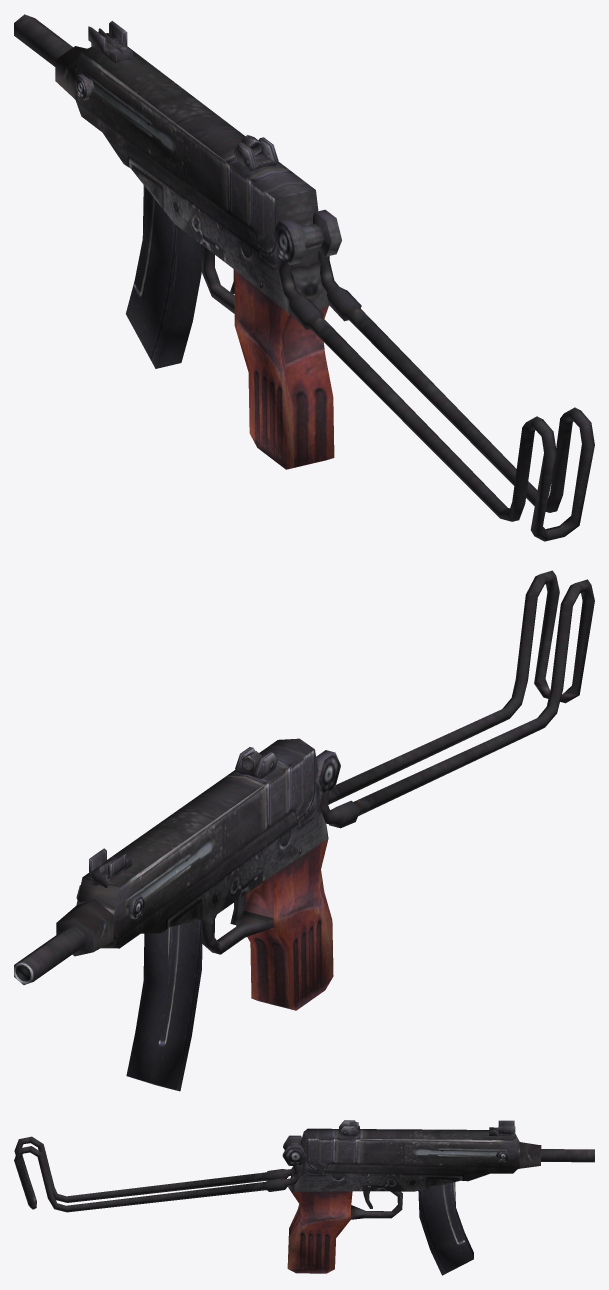
Rendered from Skorpion.glb.
3 views of the same model, one above another, from view 1: azimuth 30°, elevation 25°; view 2: azimuth 150°, elevation 25°; view 3: azimuth 270°, elevation 25° (orthographic). The views are drawn at different scales.
Visible parts, largest first — view 1: Skorpion, Stock, Mag, Stock Hinge, Sights, Barrel; view 2: Skorpion, Stock, Mag, Sights, Barrel, Stock Hinge; view 3: Skorpion, Stock, Mag, Barrel, Sights, Stock Hinge.
Part boxes in pixels (bbox=[...]): Skorpion: bbox=[55, 46, 334, 469]; Stock: bbox=[278, 251, 594, 541]; Mag: bbox=[126, 185, 201, 368]; Stock Hinge: bbox=[273, 209, 341, 264]; Sights: bbox=[88, 21, 278, 170]; Barrel: bbox=[14, 14, 72, 66]; Skorpion: bbox=[56, 738, 333, 1010]; Stock: bbox=[319, 570, 594, 828]; Mag: bbox=[126, 919, 202, 1091]; Sights: bbox=[89, 747, 277, 887]; Barrel: bbox=[14, 925, 84, 984]; Stock Hinge: bbox=[315, 750, 340, 794]; Skorpion: bbox=[287, 1128, 541, 1273]; Stock: bbox=[14, 1136, 301, 1212]; Mag: bbox=[418, 1182, 473, 1275]; Barrel: bbox=[541, 1149, 594, 1162]; Sights: bbox=[339, 1120, 515, 1138]; Stock Hinge: bbox=[282, 1135, 306, 1165].
Size of the model in its own units: 0.3528 by 1.43 by 5.01.
1 material, 1 textured.
